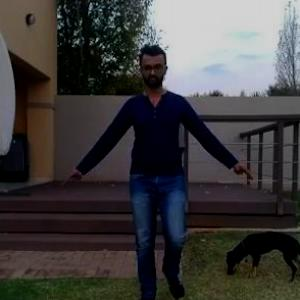land: (80, 60, 230, 298)
